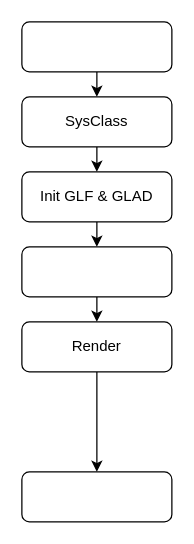
This 194x544 diagram has some shape labels left out. The centre of each missing label's shape, as x and y in pixels:
Init other classes: (x=96, y=271)
Main: (x=96, y=46)
